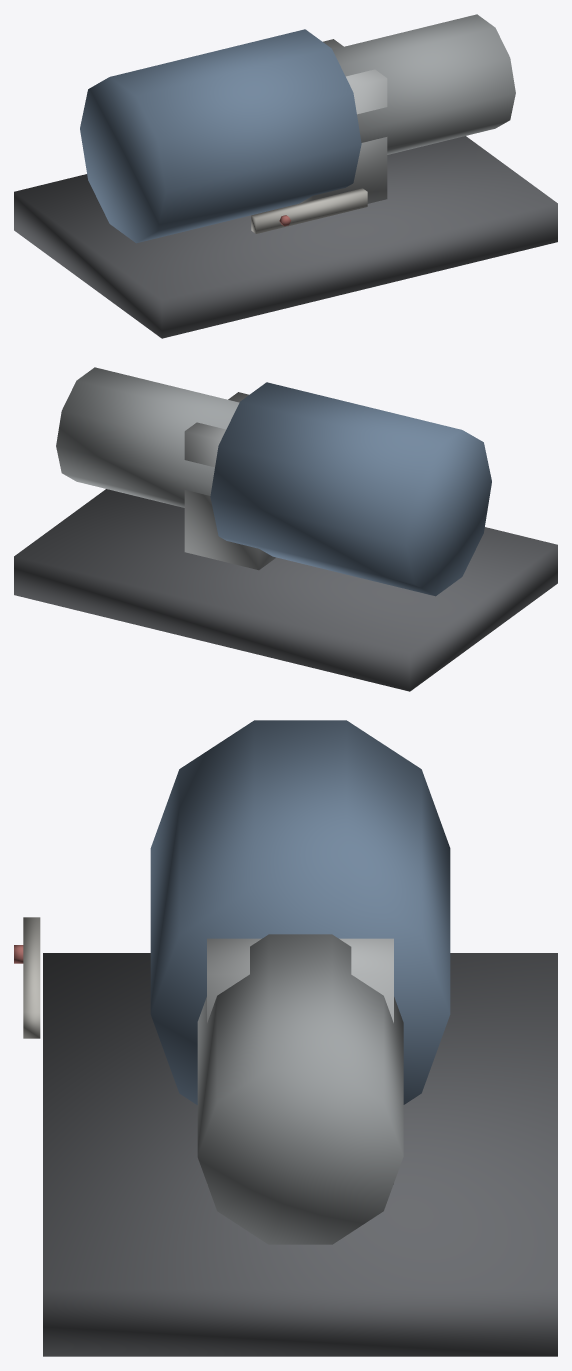
File: pump_skid__reinforced.glb
3 renders of one model, top to bottom at view 1: azimuth 30°, elevation 25°; view 2: azimuth 150°, elevation 25°; view 3: azimuth 270°, elevation 25°, orthographic. The views are drawn at different scales.
Visible parts, largest first — view 1: world; view 2: world; view 3: world.
Part boxes in pixels (<box>): world: <box>14,14,557,338</box>; world: <box>14,367,557,691</box>; world: <box>14,720,557,1356</box>.
Bounding box in the file's own units: 0.8807 × 0.4 × 0.5984.
